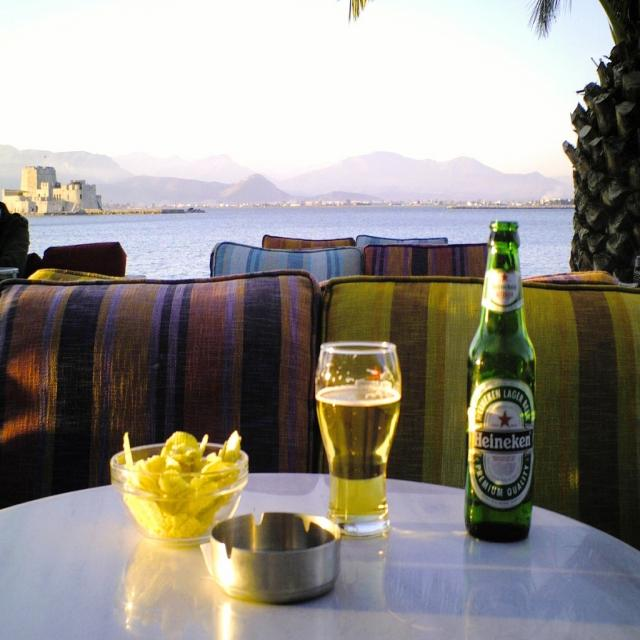heineken: (468, 380, 536, 509)
